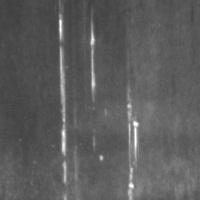scratches: (51, 10, 74, 187), (122, 97, 144, 200), (84, 14, 102, 106)
